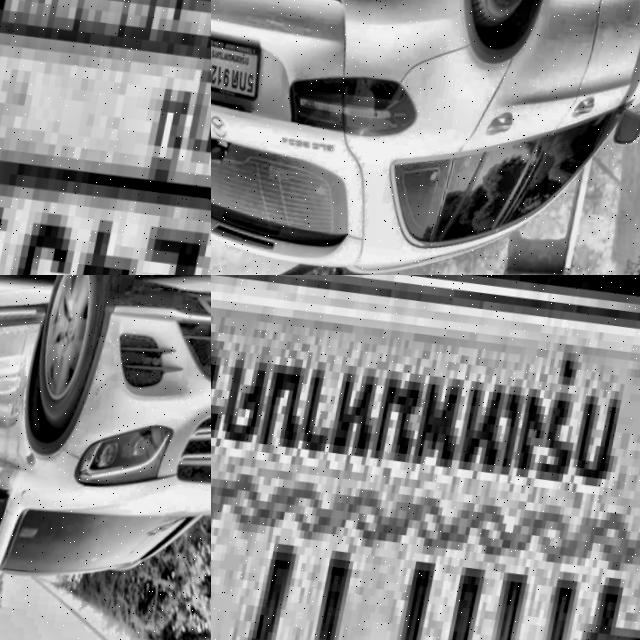license-plate: (211, 275, 640, 640), (0, 0, 211, 275), (211, 35, 272, 102)
